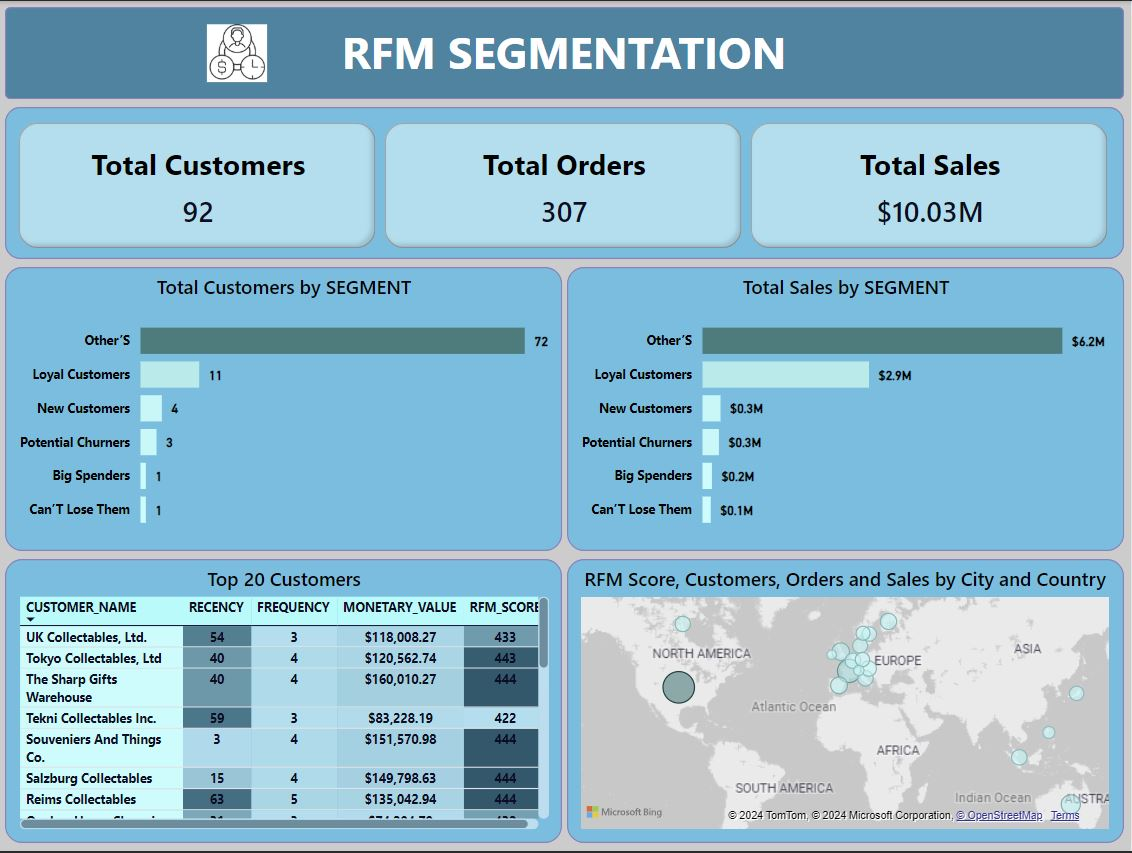

What the dashboard file says about the page in this screenshot:
{"tool":"powerbi","page":{"name":"Page 1","canvas":[960,720],"ordinal":0},"visuals":[{"type":"shape","box":[5.9,90,947.9,128.8],"z":0},{"type":"cardVisual","fields":{"Data":["_Measures.Total Customers","_Measures.Total Orders","_Measures.Total Sales"]},"box":[12.7,98.3,933.5,116],"z":1000},{"type":"shape","box":[5.9,225.3,472,240.6],"z":2000},{"type":"shape","box":[482,225.3,472,240.6],"z":3000},{"type":"shape","box":[5.9,472.7,471.8,240.6],"z":4000},{"type":"shape","box":[482,472.7,471.8,240.6],"z":5000},{"type":"barChart","fields":{"Category":["RFM_SEGMENTATION.SEGMENT"],"Y":["_Measures.Total Customers"]},"box":[12.7,231.2,459.1,227.9],"z":6000},{"type":"barChart","fields":{"Category":["RFM_SEGMENTATION.SEGMENT"],"Y":["_Measures.Total Sales"]},"box":[488.8,231.2,459.1,227.9],"z":7000},{"type":"tableEx","title":"Top 20 Customers","fields":{"Values":["RFM_SEGMENTATION.CUSTOMER_NAME","RFM_SEGMENTATION.RETENCY","RFM_SEGMENTATION.FREQUENCY","RFM_SEGMENTATION.MONETARY_VALUE","RFM_SEGMENTATION.RFM_SCORE"]},"box":[12.7,478.6,459.1,227.9],"z":8000},{"type":"map","title":"RFM Score, Customers, Orders and Sales by City and Country","fields":{"Category":["RFM_SEGMENTATION.CITY","RFM_SEGMENTATION.COUNTRY"],"Size":["Sum(RFM_SEGMENTATION.RFM_SCORE)"]},"box":[488.8,478.6,457.4,227.9],"z":9000},{"type":"shape","box":[5.9,5.1,947.9,78],"z":10000},{"type":"textbox","box":[12.7,12.7,933.5,62.7],"z":11000},{"type":"image","box":[172,12.7,61,62.7],"z":12000}]}

Visuals, with their boxes in screenshot pixels (x1, y1, x2, y2), scaled from the page's 960x720 canvas onto the 1132x853 screenshot:
shape: left=7, top=107, right=1125, bottom=259
cardVisual - _Measures.Total Customers x _Measures.Total Orders: left=15, top=116, right=1116, bottom=254
shape: left=7, top=267, right=564, bottom=552
shape: left=568, top=267, right=1125, bottom=552
shape: left=7, top=560, right=563, bottom=845
shape: left=568, top=560, right=1125, bottom=845
barChart - RFM_SEGMENTATION.SEGMENT x _Measures.Total Customers: left=15, top=274, right=556, bottom=544
barChart - RFM_SEGMENTATION.SEGMENT x _Measures.Total Sales: left=576, top=274, right=1118, bottom=544
"Top 20 Customers" tableEx: left=15, top=567, right=556, bottom=837
"RFM Score, Customers, Orders and Sales by City and Country" map: left=576, top=567, right=1116, bottom=837
shape: left=7, top=6, right=1125, bottom=98
textbox: left=15, top=15, right=1116, bottom=89
image: left=203, top=15, right=275, bottom=89
